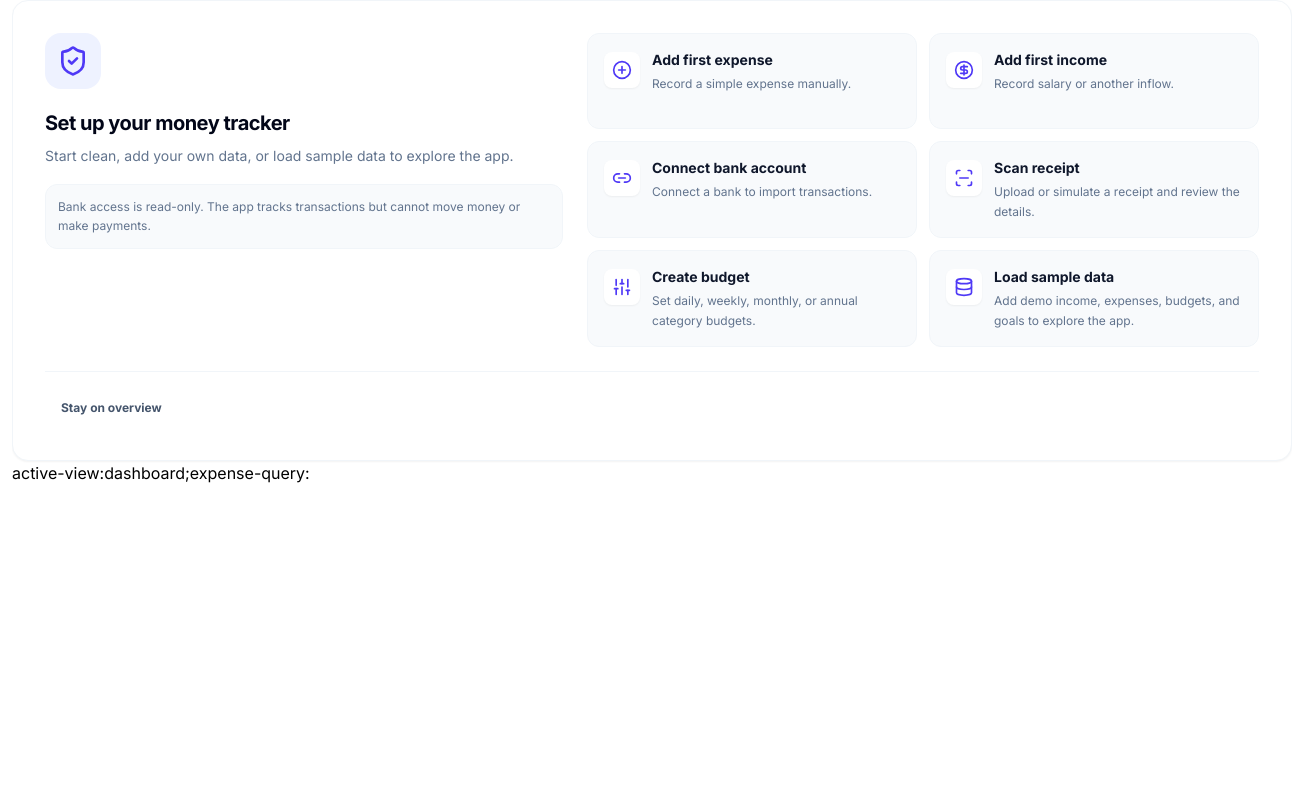
Test: critical UI workflows › dashboard setup can load sample data without leaving the overview
Click the button "Load sample data".
click(1094, 298)  # box x1=929 y1=250 x2=1259 y2=347
(page scrolled)
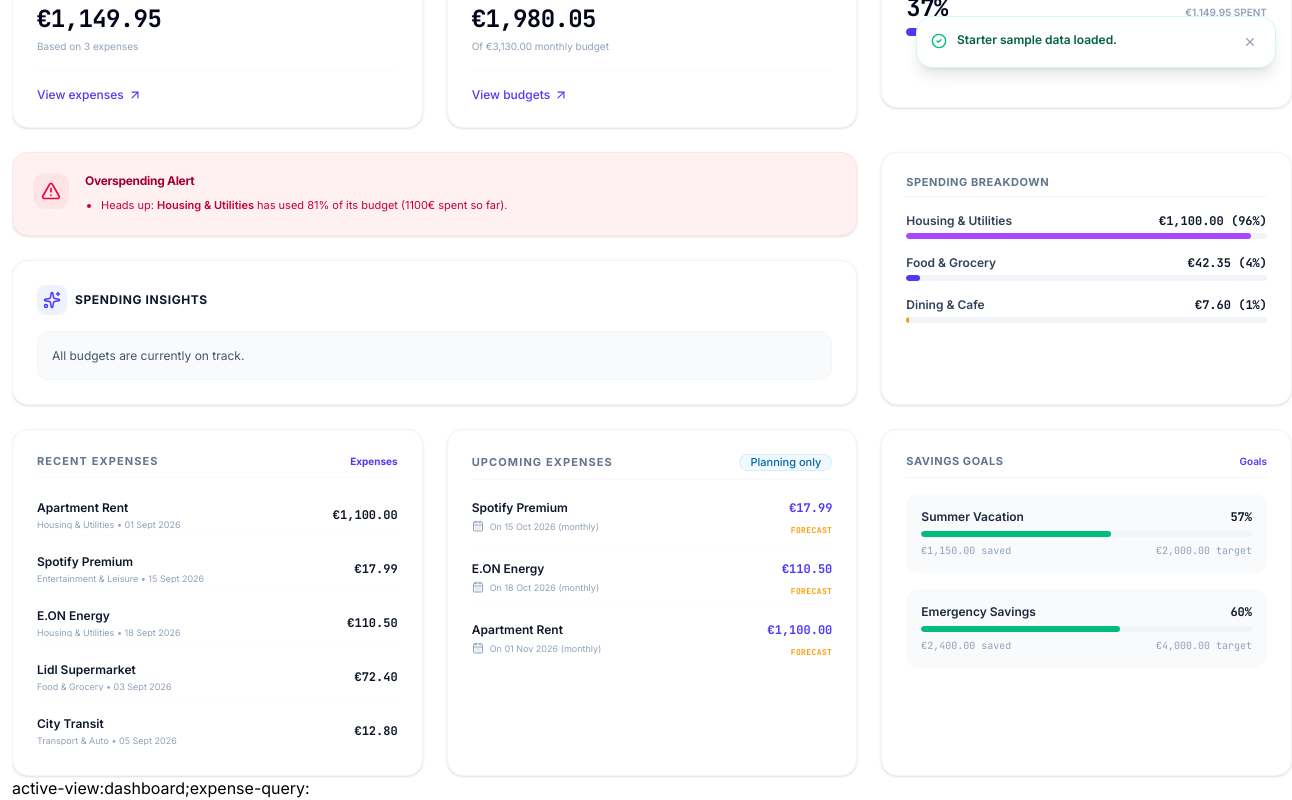
Check: the text named "navigation-state" shows "active-view:dashboard", box x1=12 y1=778 x2=310 y2=798
Check: the text "Based on 3 expenses" is shown, box x1=37 y1=40 x2=138 y2=52
